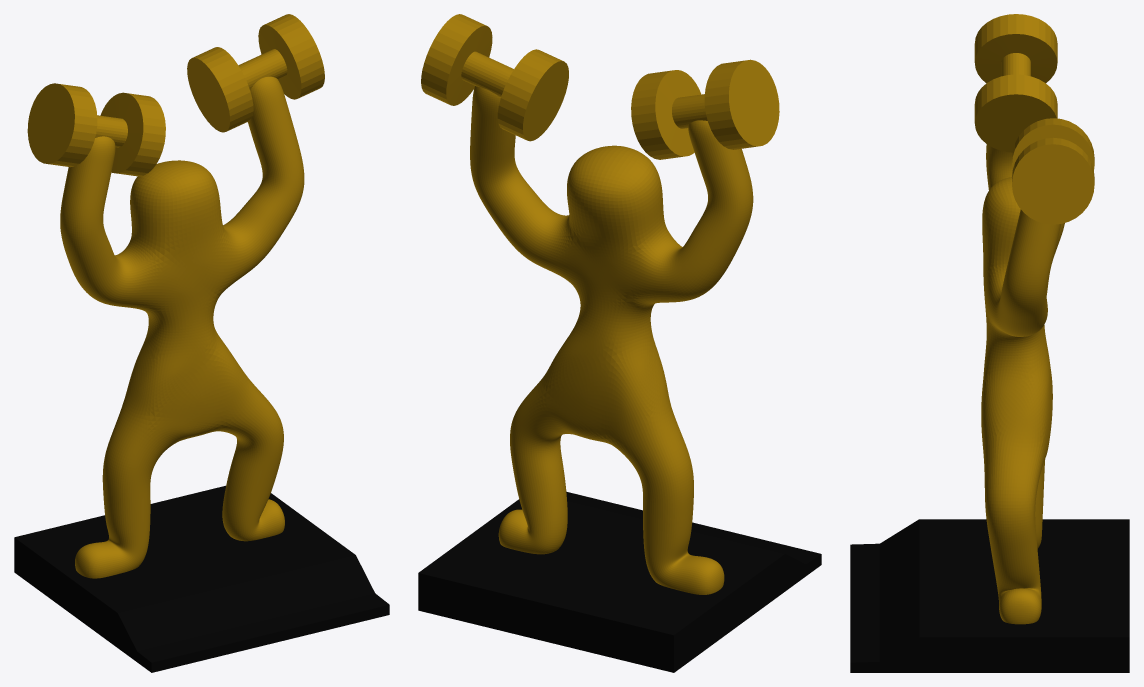
3 renders of one model, left to right at view 1: azimuth 30°, elevation 25°; view 2: azimuth 150°, elevation 25°; view 3: azimuth 270°, elevation 25°, orthographic. The views are drawn at different scales.
Parts seen in each view (by area): view 1: Plane.004, base.004, peso, peso.001; view 2: Plane.004, base.004, peso, peso.001; view 3: base.004, Plane.004, peso, peso.001.
Boxes of the visible parts, left/top/right/bottom form: Plane.004: left=60, top=76, right=304, bottom=578; base.004: left=14, top=485, right=389, bottom=672; peso: left=27, top=83, right=165, bottom=176; peso.001: left=187, top=14, right=324, bottom=132; Plane.004: left=470, top=86, right=753, bottom=594; base.004: left=418, top=491, right=821, bottom=672; peso: left=631, top=59, right=779, bottom=159; peso.001: left=421, top=14, right=568, bottom=141; base.004: left=850, top=519, right=1129, bottom=672; Plane.004: left=981, top=144, right=1064, bottom=624; peso: left=974, top=14, right=1057, bottom=152; peso.001: left=1012, top=118, right=1094, bottom=224.
Size of the model in its own units: 97.15 by 170 by 79.88.
